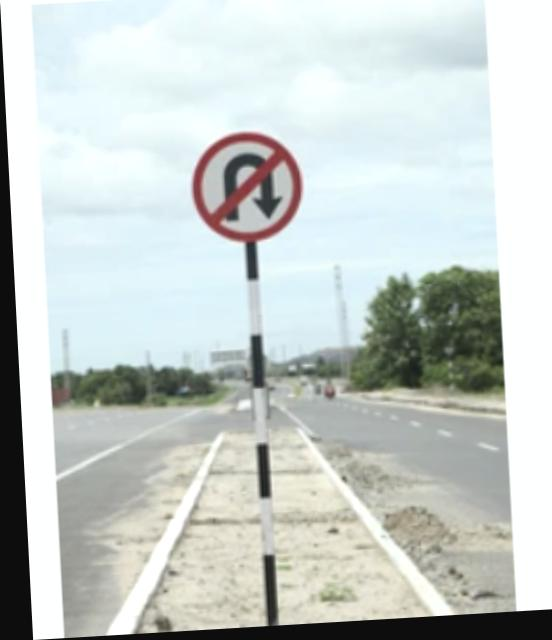not_u_turn_right: (168, 109, 323, 262)
